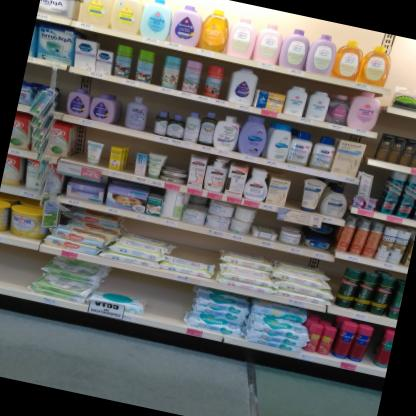empty_space: (144, 276, 193, 328), (0, 244, 34, 294)
